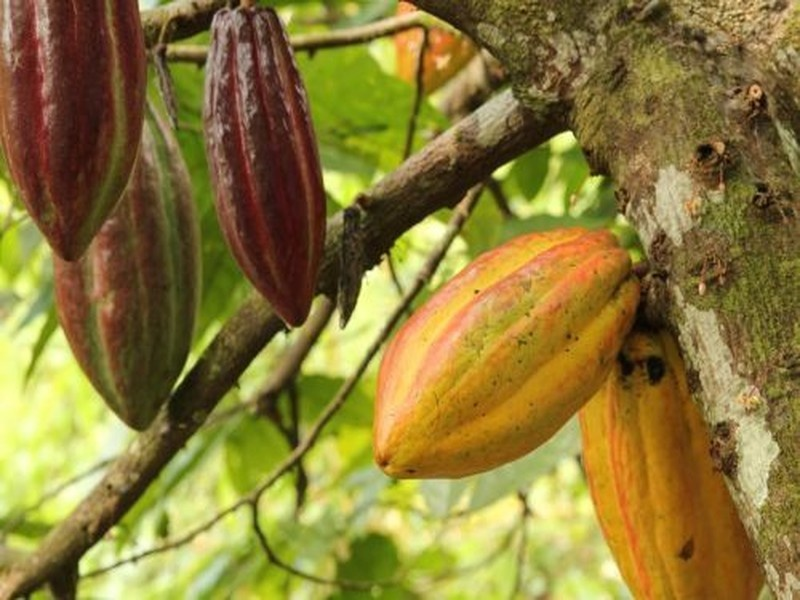Cacaopod: (371, 215, 638, 468), (561, 318, 777, 600), (198, 11, 341, 325), (1, 7, 155, 198)
